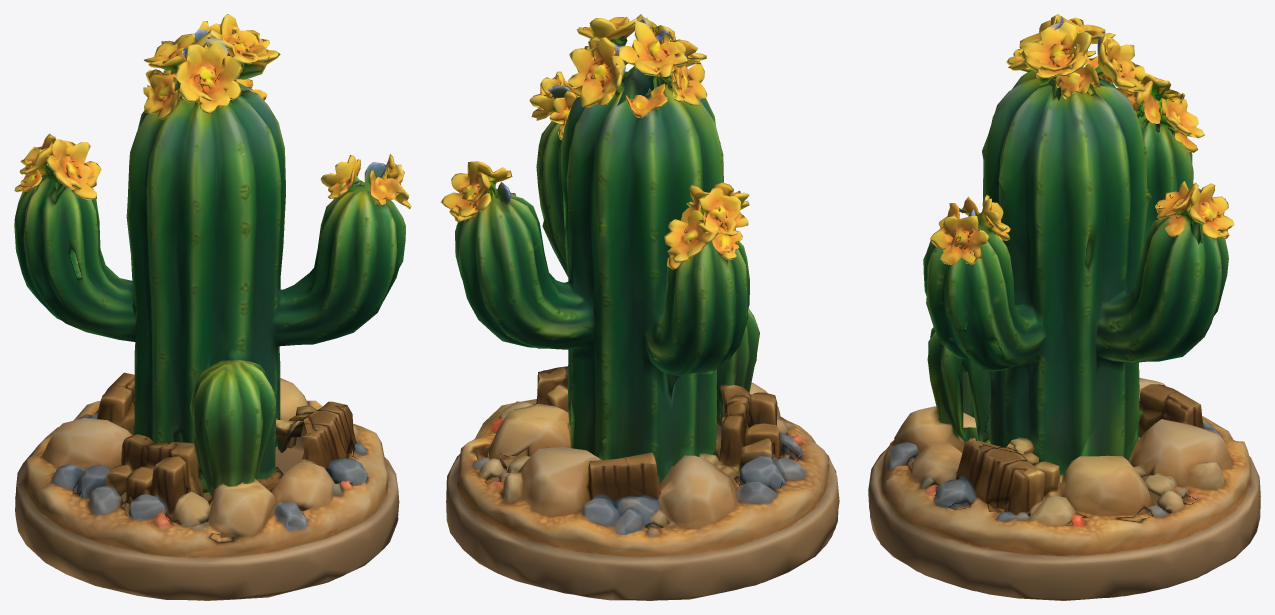
File: env_desert_cactus.glb
The picture shows the model from 3 angles, left to right: view 1: azimuth 30°, elevation 25°; view 2: azimuth 150°, elevation 25°; view 3: azimuth 270°, elevation 25°; orthographic projection. The views are drawn at different scales.
Visible parts, largest first — view 1: world; view 2: world; view 3: world.
Boxes of the visible parts, x1=… form: world: x1=14, y1=14, x2=411, y2=600; world: x1=440, y1=14, x2=839, y2=600; world: x1=868, y1=14, x2=1260, y2=600.
Bounding box in the file's own units: 0.7079 × 1 × 0.7075.
Materials: 1 (1 with a texture image).
